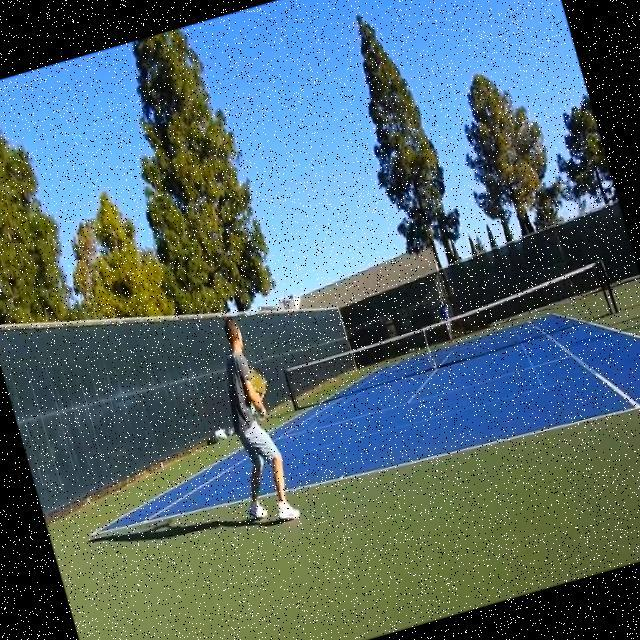court: (64, 287, 640, 565)
net: (276, 256, 618, 409)
player: (194, 312, 306, 534)
